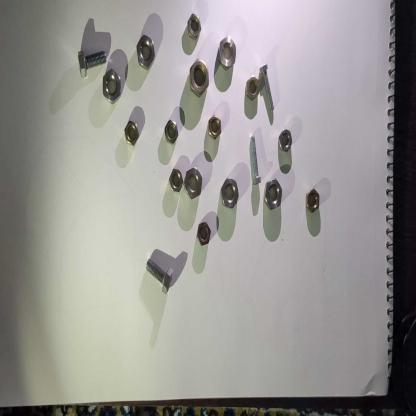Bolts: (143, 252, 175, 302), (77, 44, 110, 82), (257, 62, 277, 117), (249, 130, 264, 187)
NUTS: (100, 65, 124, 107), (188, 58, 209, 101), (217, 33, 239, 70), (135, 32, 156, 70), (183, 163, 204, 200), (264, 176, 284, 213), (219, 173, 239, 210), (304, 185, 323, 217), (242, 71, 261, 103), (162, 115, 180, 148), (276, 122, 294, 154), (204, 114, 223, 143), (167, 165, 184, 197), (186, 10, 202, 40), (197, 219, 212, 250), (123, 118, 139, 146), (245, 73, 260, 102)
